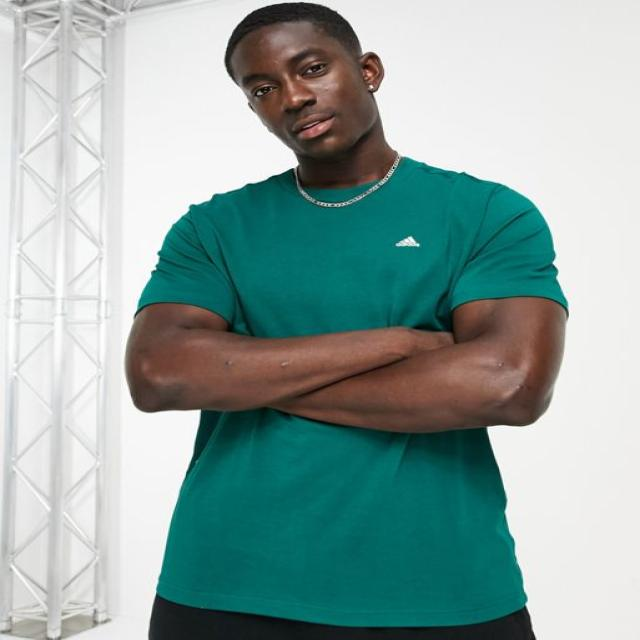tshirt: (132, 157, 564, 626)
